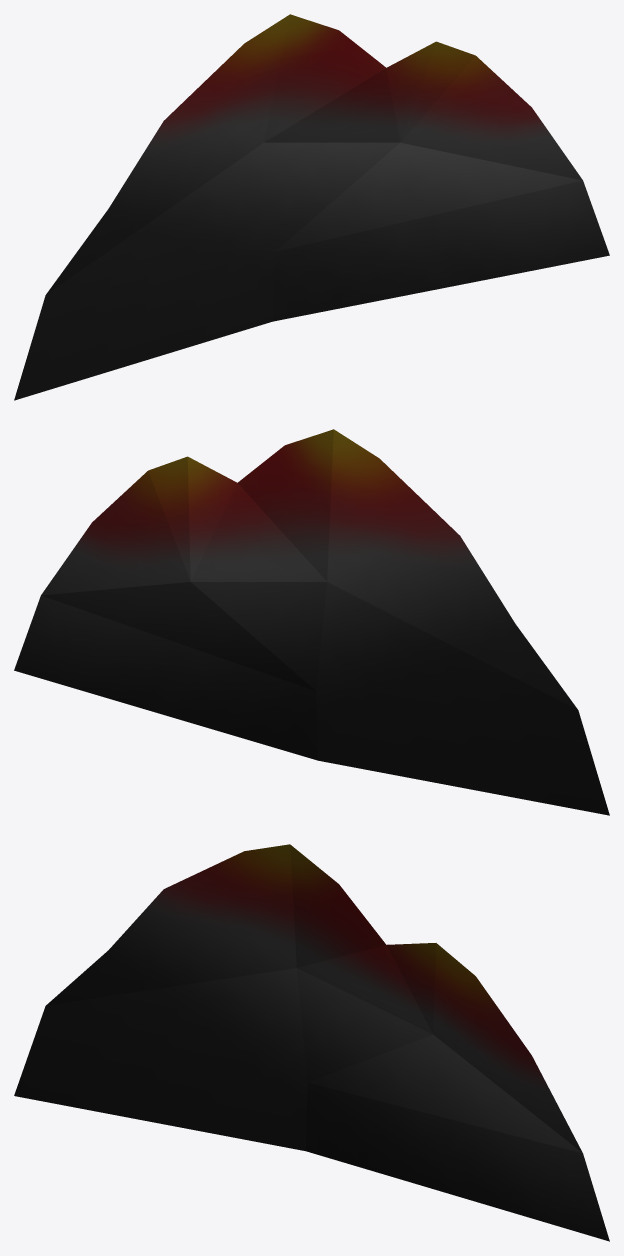
The model's file is Terrain_Volcano_Far_2.fbx.
The picture shows the model from 3 angles, top to bottom: view 1: azimuth 30°, elevation 25°; view 2: azimuth 150°, elevation 25°; view 3: azimuth 330°, elevation 25°; orthographic projection.
Parts seen in each view (by area): view 1: terrain_mountain_far_404; view 2: terrain_mountain_far_404; view 3: terrain_mountain_far_404.
Boxes of the visible parts, x1=… form: terrain_mountain_far_404: x1=14, y1=14, x2=609, y2=400; terrain_mountain_far_404: x1=14, y1=429, x2=609, y2=815; terrain_mountain_far_404: x1=14, y1=844, x2=609, y2=1241.
Size of the model in its own units: 17005 by 8707 by 814.
1 material, 1 textured.
